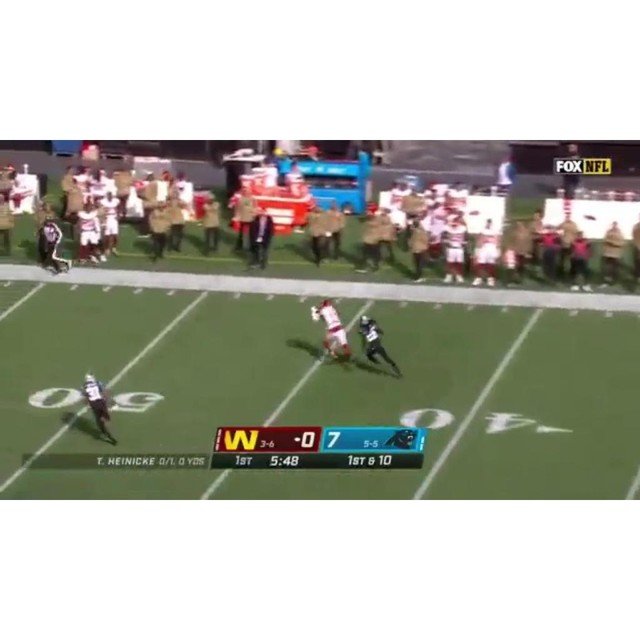american-football-player: (81, 370, 118, 446), (359, 316, 402, 377), (311, 301, 353, 363)
